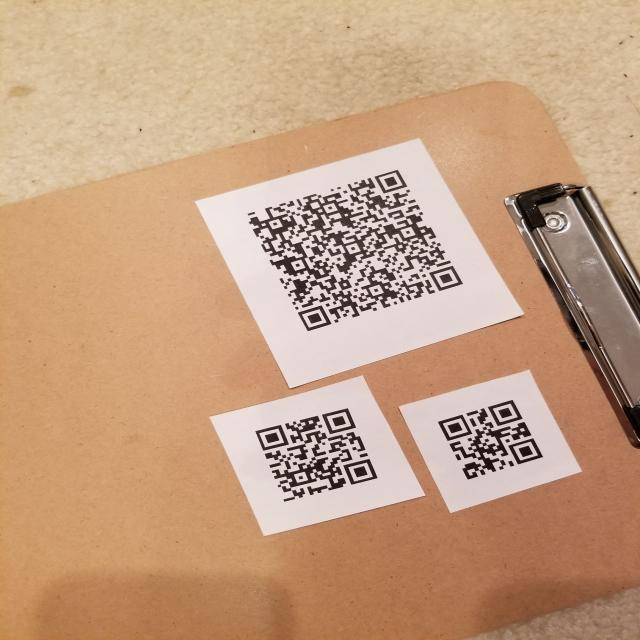QRCode: (238, 163, 477, 341), (243, 404, 392, 515), (429, 391, 564, 494)
